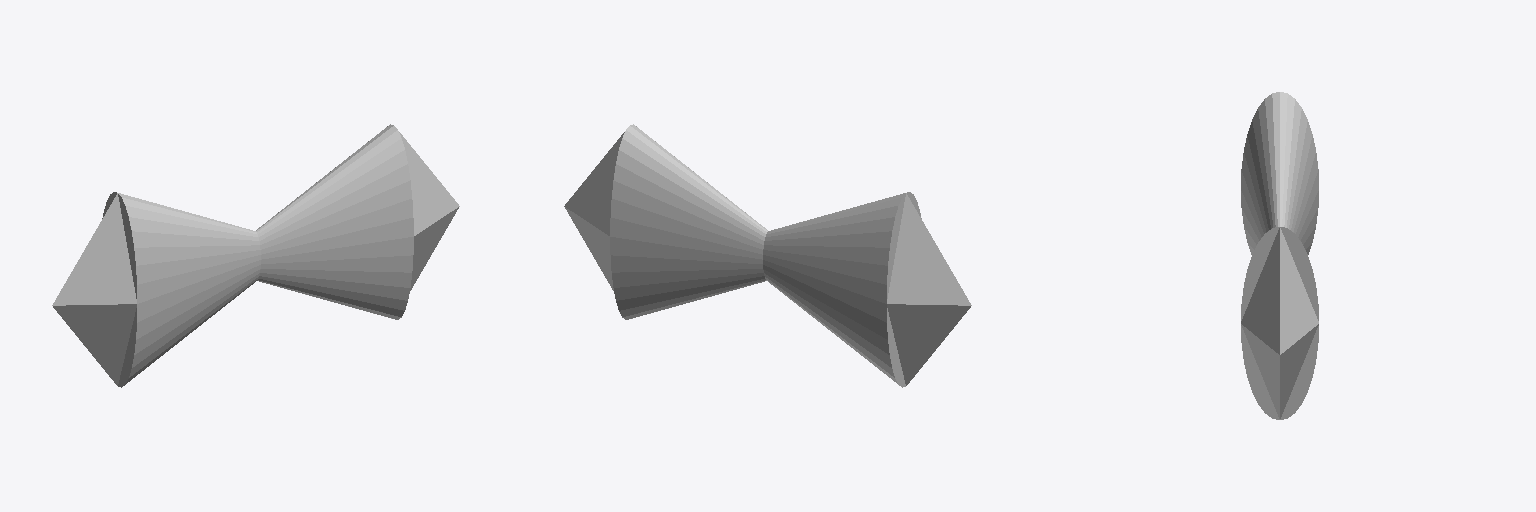
File: bow.obj
3 views of the same model, side by side, from view 1: azimuth 30°, elevation 25°; view 2: azimuth 150°, elevation 25°; view 3: azimuth 270°, elevation 25° (orthographic).
Visible parts, largest first — view 1: Cone_Cone.003, Cone.001_Cone.004; view 2: Cone_Cone.003, Cone.001_Cone.004; view 3: Cone.001_Cone.004, Cone_Cone.003.
Part boxes in pixels (left/top/right/bottom): Cone_Cone.003: left=52, top=192, right=260, bottom=387; Cone.001_Cone.004: left=256, top=124, right=459, bottom=319; Cone_Cone.003: left=763, top=192, right=971, bottom=387; Cone.001_Cone.004: left=564, top=124, right=767, bottom=319; Cone.001_Cone.004: left=1241, top=227, right=1318, bottom=419; Cone_Cone.003: left=1241, top=92, right=1318, bottom=254.
Bounding box in the file's own units: 0.7007 × 0.3186 × 0.1171.